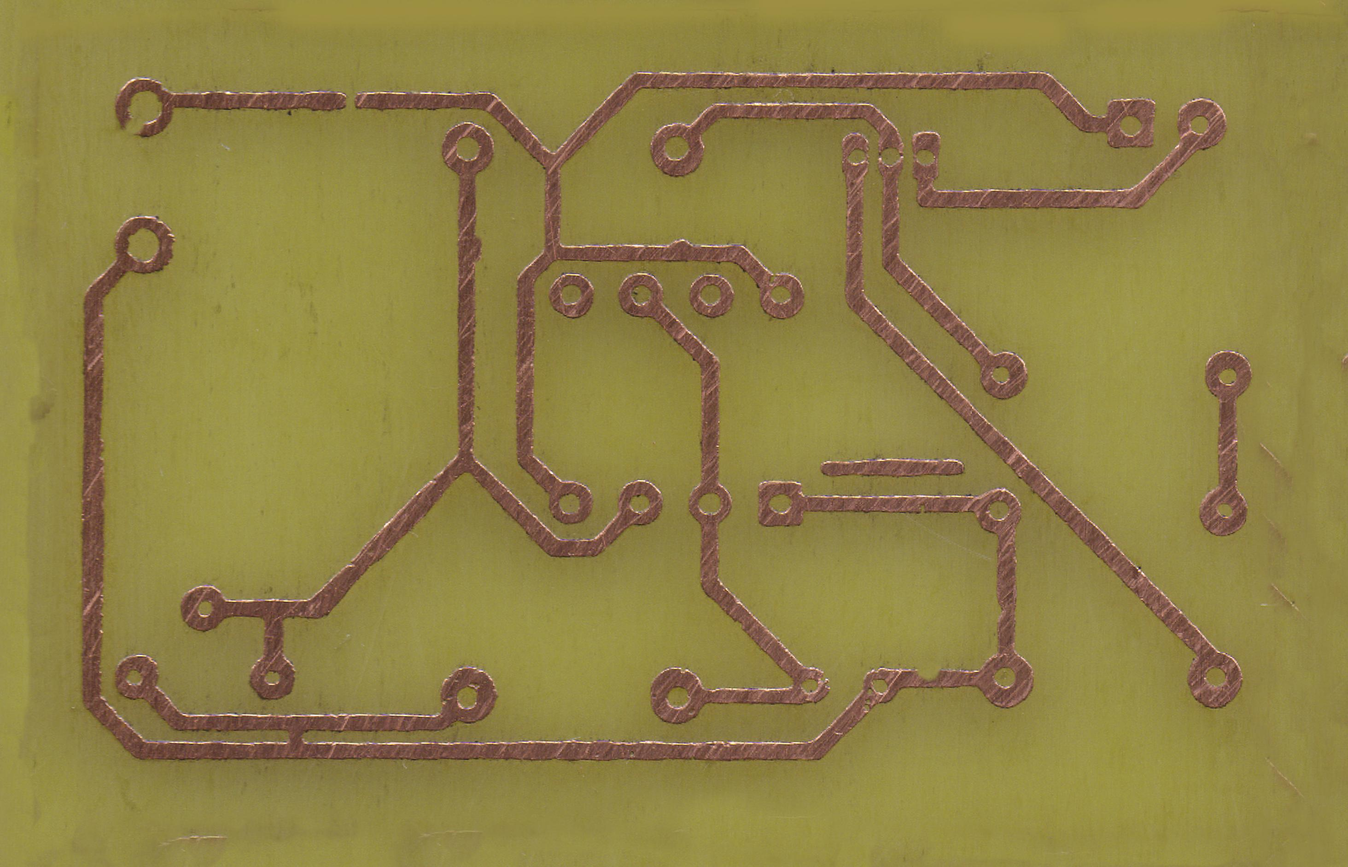missing_hole: (116, 76, 174, 140), (792, 666, 834, 704)
mouse_bite: (910, 668, 947, 688)
open_circuit: (332, 90, 370, 111)
short: (278, 716, 314, 758)
spur: (461, 234, 486, 265), (665, 238, 697, 262)
spurious_copper: (819, 456, 965, 478)
